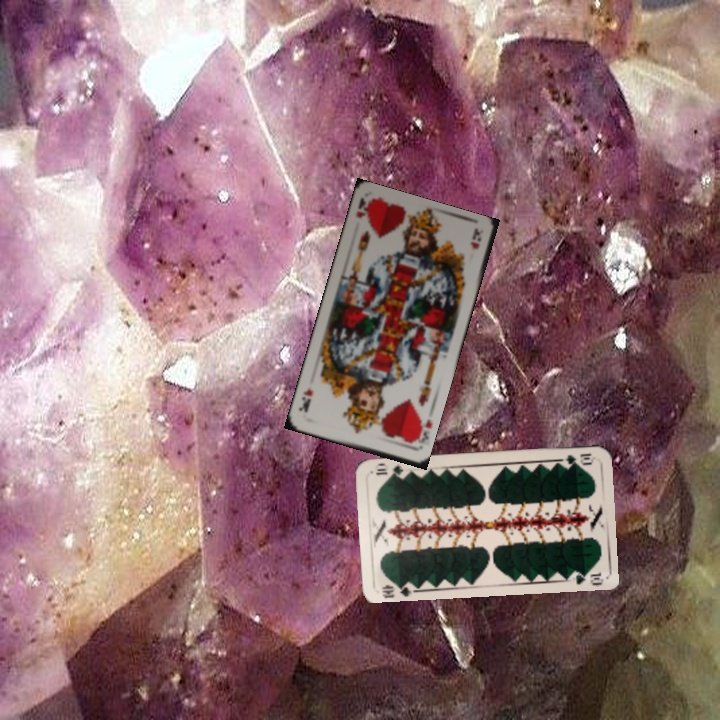G10: (378, 578, 416, 599), (562, 449, 597, 468)
HK: (408, 412, 435, 451), (352, 195, 373, 222)
